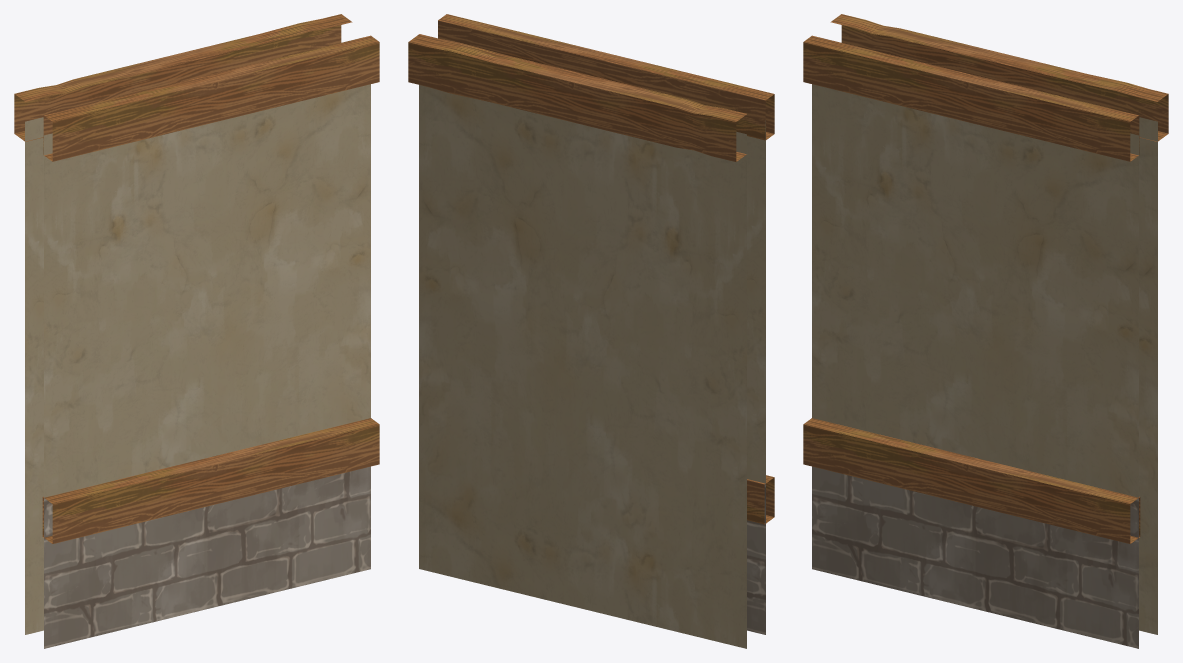
File: Wall_Plaster_Straight_Base.obj
3 views of the same model, side by side, from view 1: azimuth 30°, elevation 25°; view 2: azimuth 150°, elevation 25°; view 3: azimuth 330°, elevation 25° (orthographic).
Parts seen in each view (by area): view 1: Wall_Plaster_Straight_Base; view 2: Wall_Plaster_Straight_Base; view 3: Wall_Plaster_Straight_Base.
Boxes of the visible parts, box(x1,y1,x2,y2) form: Wall_Plaster_Straight_Base: box(14, 14, 379, 648); Wall_Plaster_Straight_Base: box(408, 14, 774, 648); Wall_Plaster_Straight_Base: box(803, 14, 1168, 648).
Bounding box in the file's own units: 2 × 3.12 × 0.4065.
